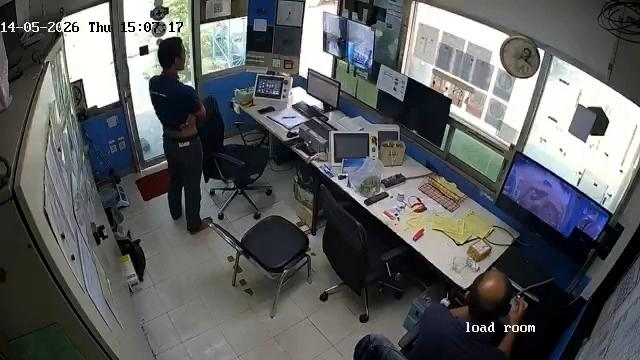Head: (465, 271, 512, 319), (157, 38, 186, 70)
People: (350, 267, 527, 360), (148, 37, 214, 234)
Phone: (257, 106, 276, 115)
